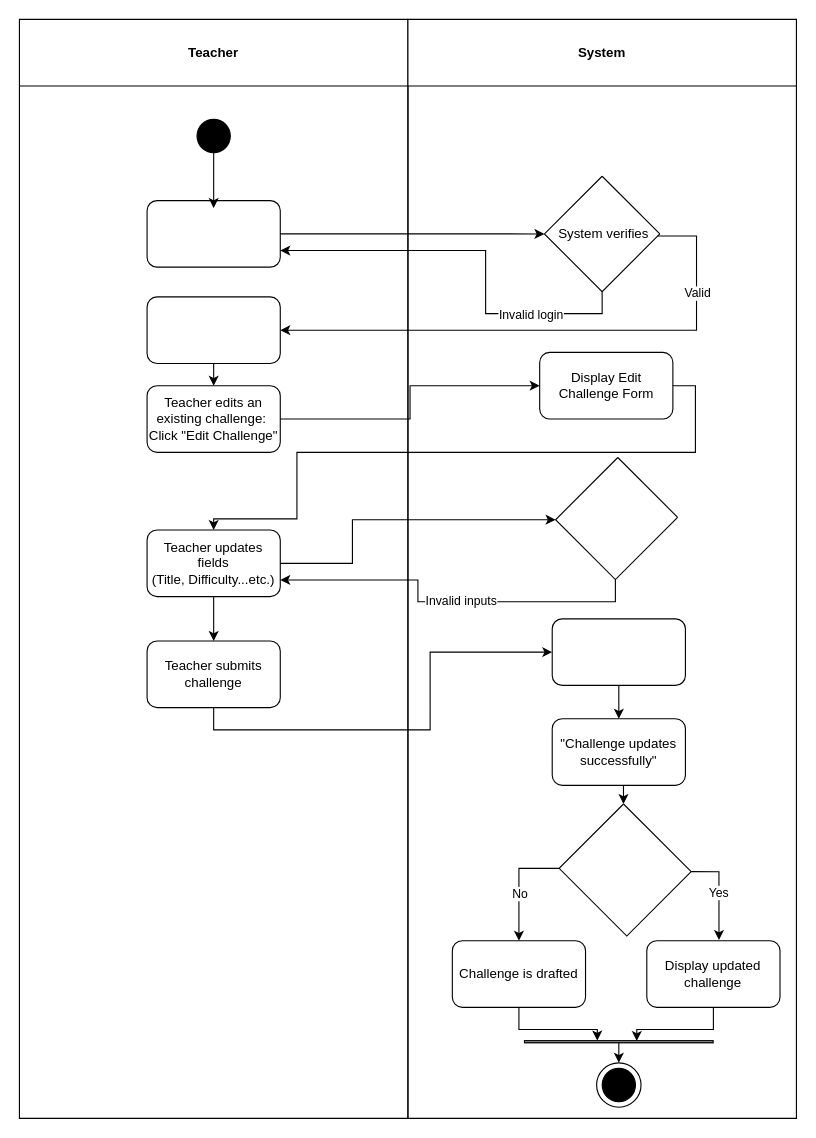
This 816x1138 diagram has some shape labels left out. Each missing label, with the box of its shape:
System updates challenge into database: (551, 618, 685, 685)
System validates inputs: (554, 456, 678, 580)
Teacher logs into the system: (146, 199, 280, 267)
Teacher navigates to specific course and topic: (146, 296, 280, 364)
Teacher published challenge: (558, 803, 691, 936)
